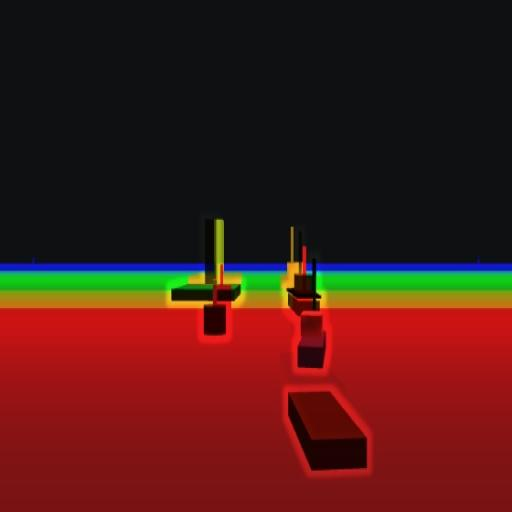fishing_boat: (296, 262, 328, 367)
platform: (168, 216, 240, 302)
